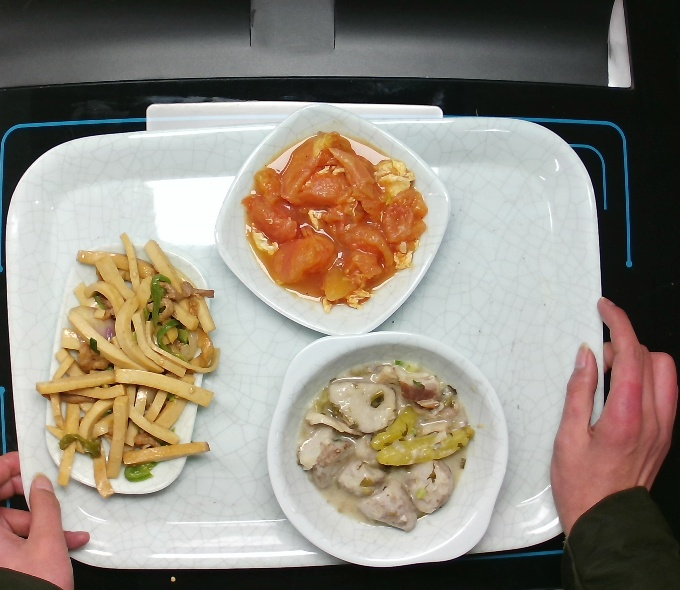wcq-FanQieChaoDan: (236, 123, 434, 317)
wcq-QianYeDouFu: (33, 231, 225, 502)
wcq-YangYu: (291, 353, 481, 537)
